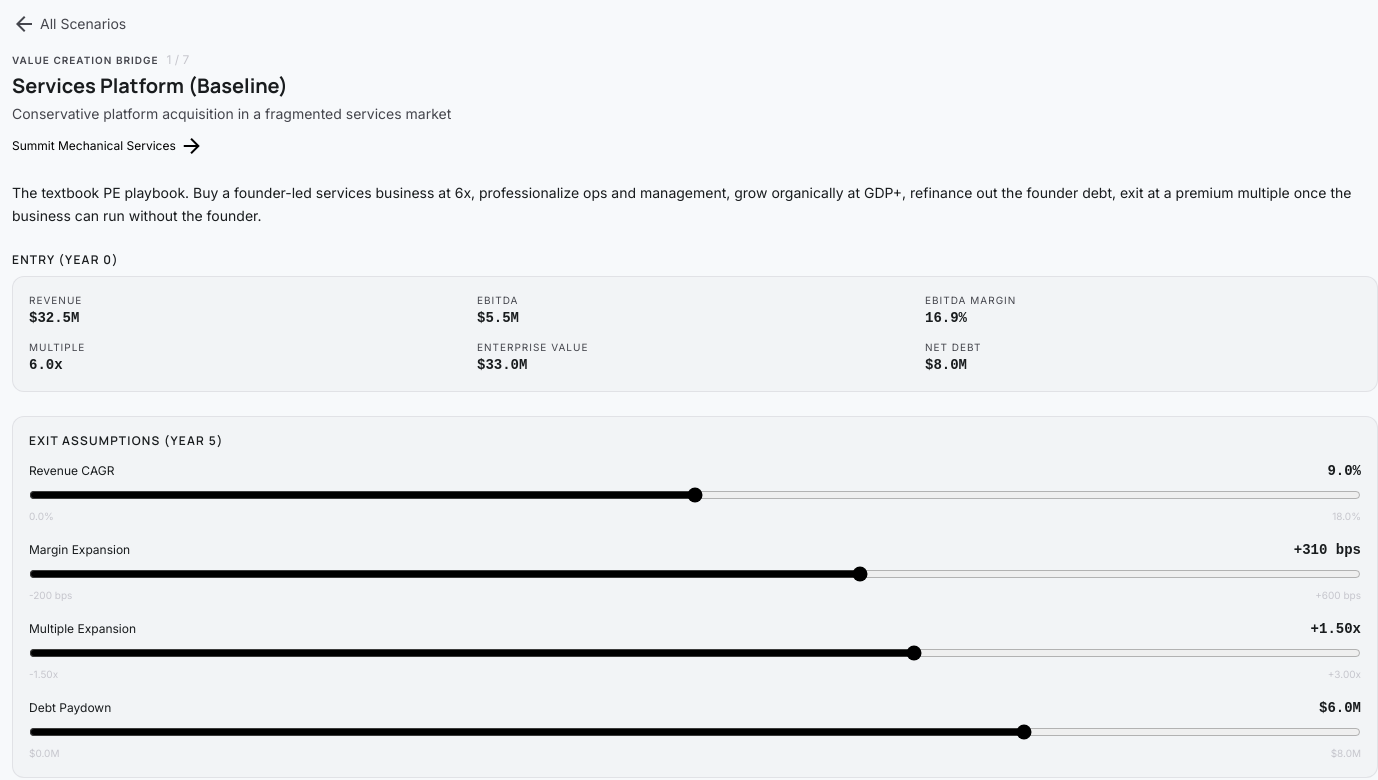
Test case: BridgeCalculator › updates MOIC display when a slider changes
The image size is (1378, 780).
Note: Bump CAGR to max (18%) — MOIC should increase from plan baseline
Set the slider named "Revenue CAGR" to "18" at (1353, 494), box [29, 486, 1361, 502]
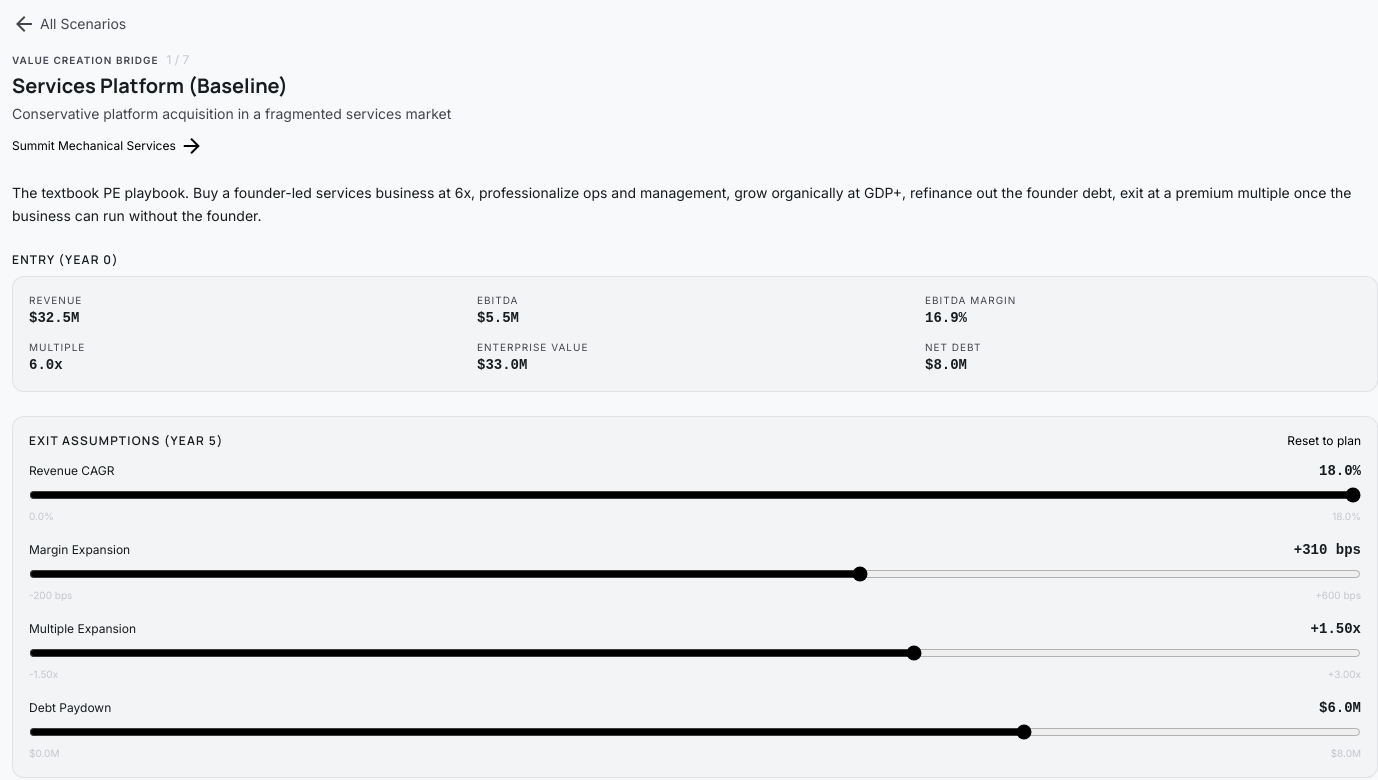
Expected: the button "Reset to plan" is shown, [1287, 432, 1361, 448]
